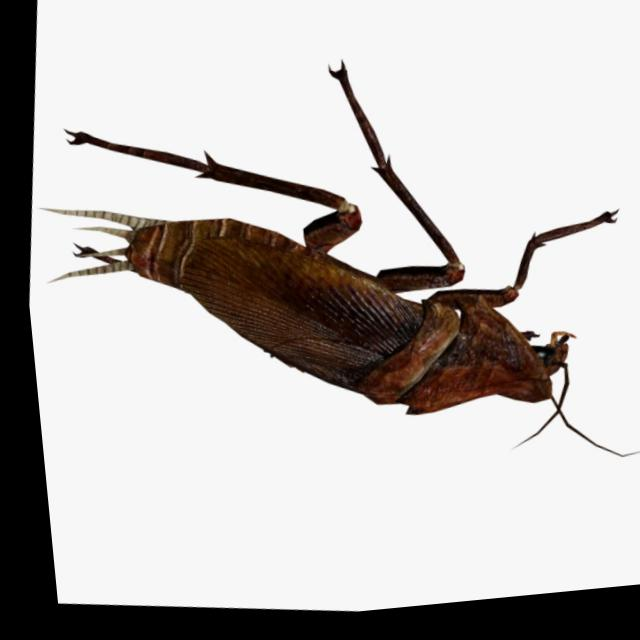Cockroach: (4, 0, 640, 527)
